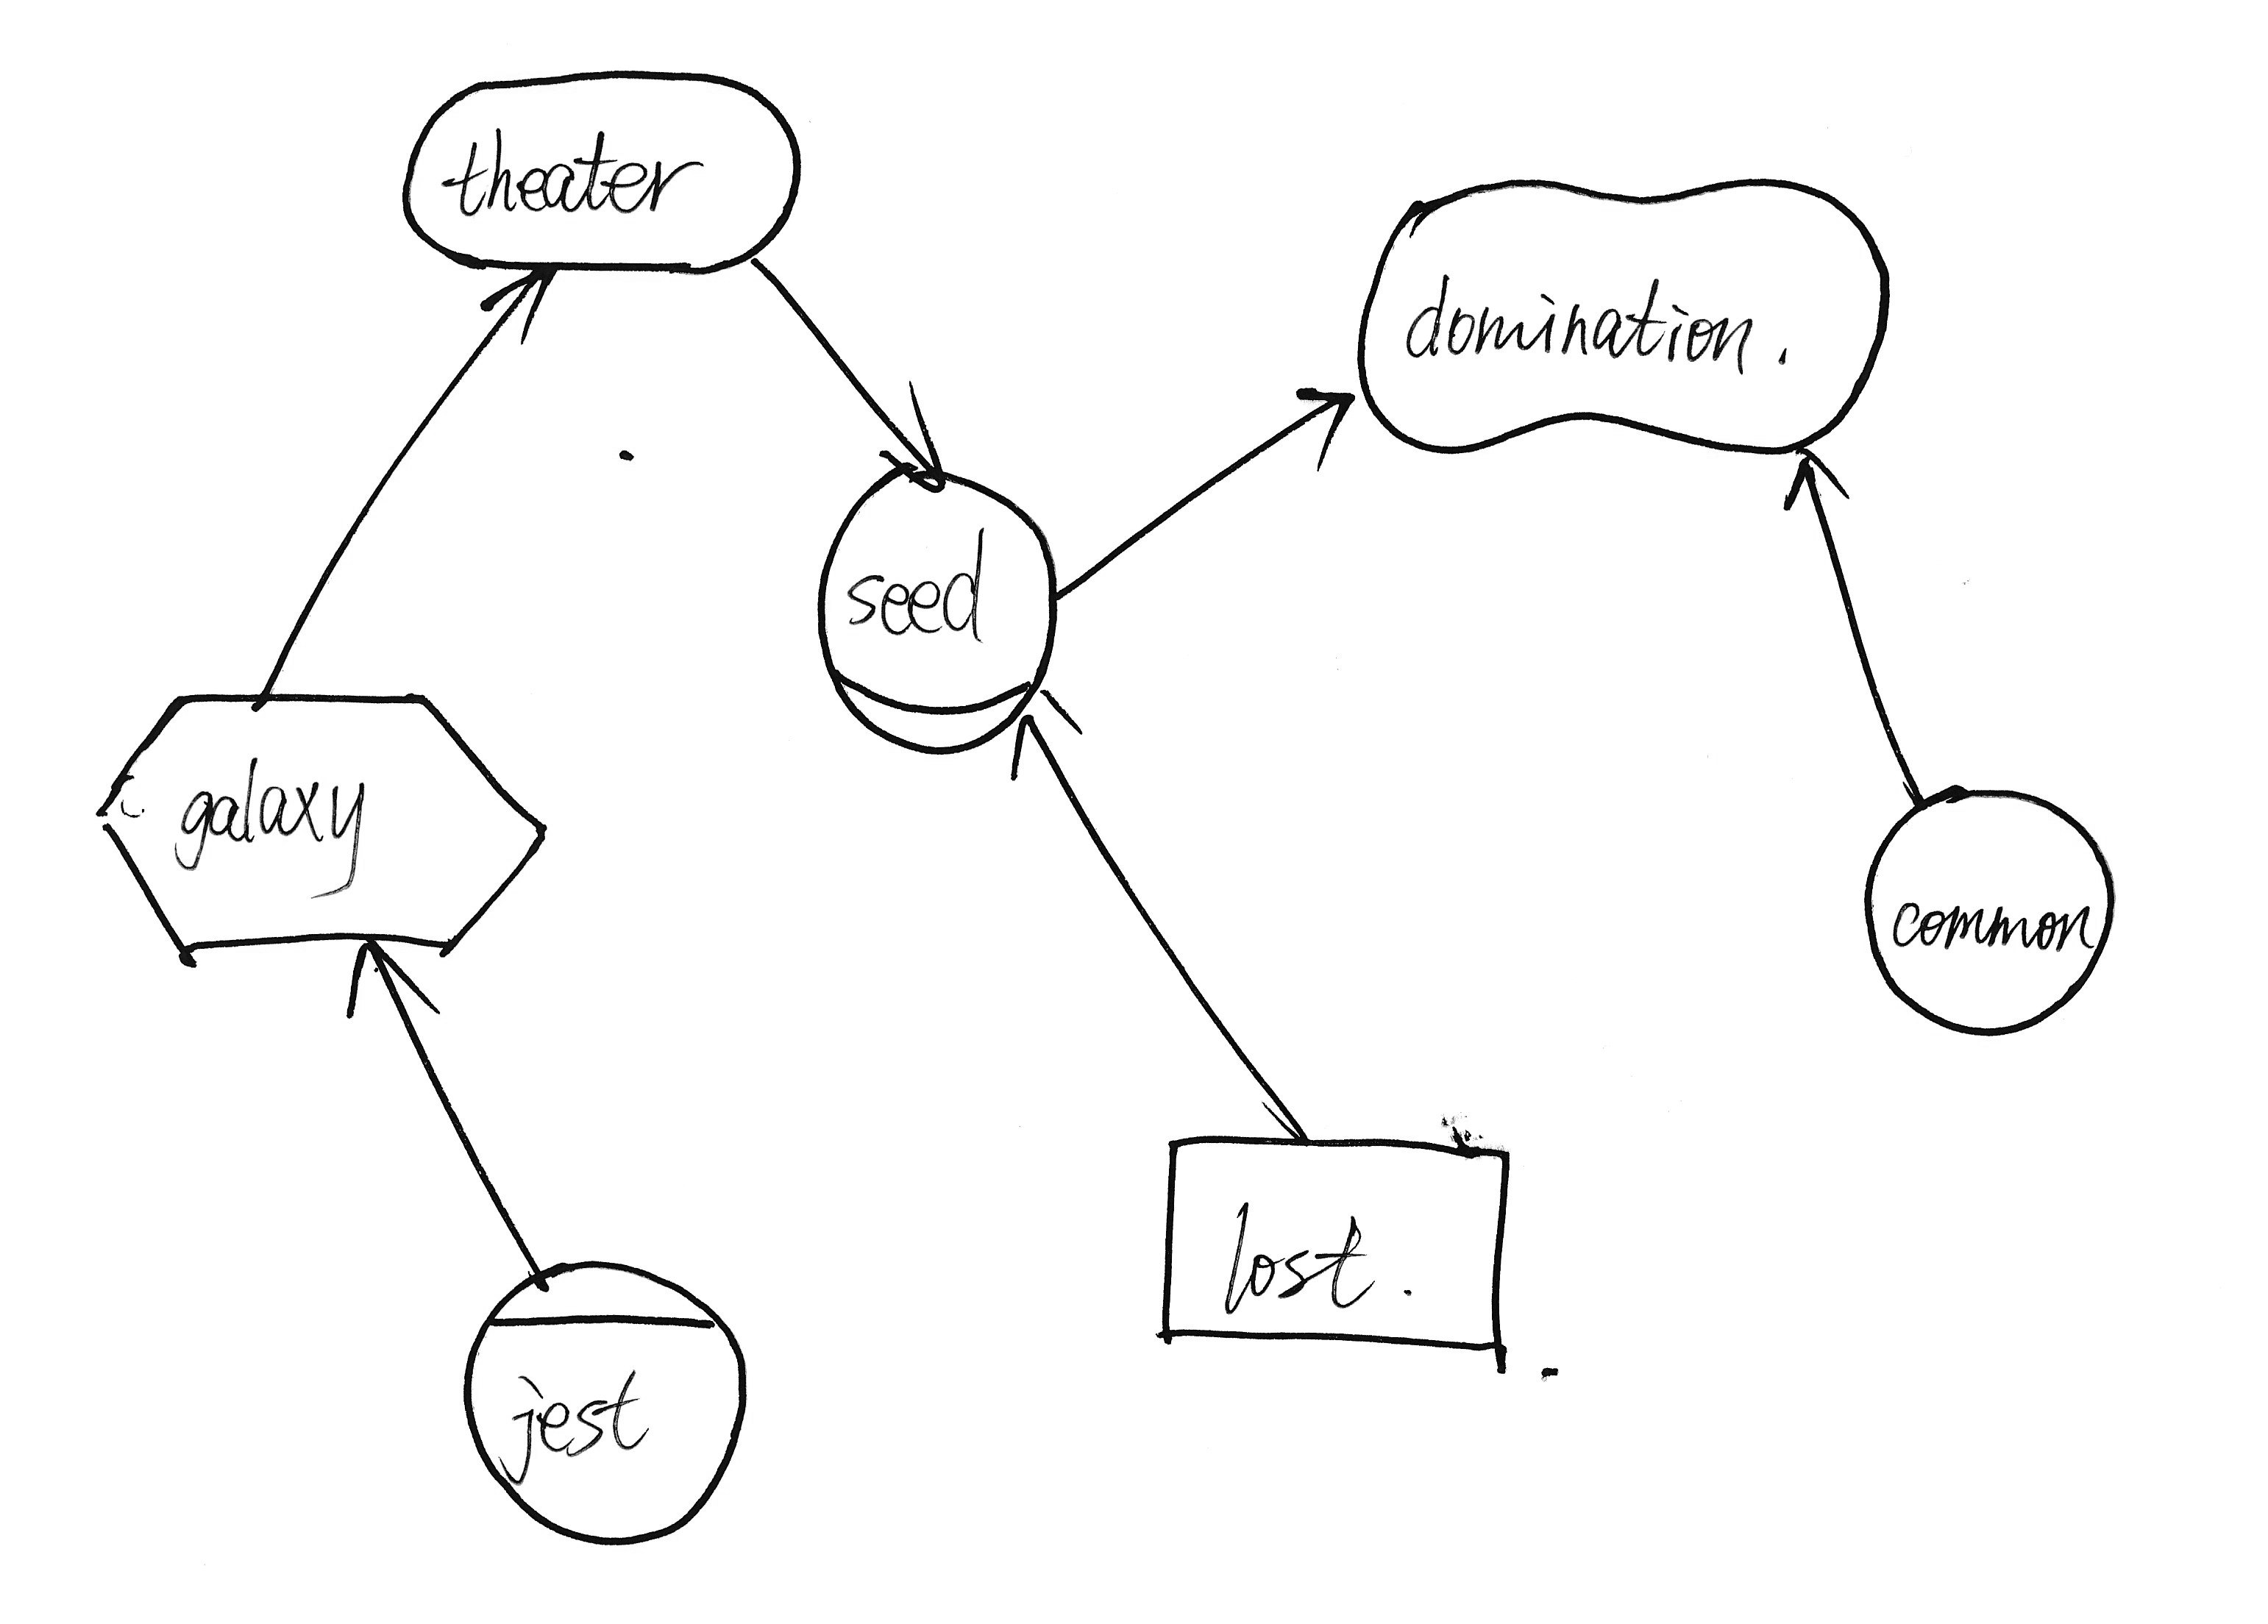actor: (1850, 765, 2141, 1060)
agent: (440, 1244, 768, 1564)
arrow: (858, 367, 956, 511), (327, 933, 459, 1032), (997, 680, 1087, 812), (1278, 364, 1364, 494), (461, 257, 564, 355), (1765, 429, 1858, 518)
goal: (380, 44, 819, 297)
quality: (1333, 149, 1906, 469)
resource: (1138, 1113, 1537, 1394)
role: (803, 452, 1072, 777)
task: (77, 666, 566, 988)
